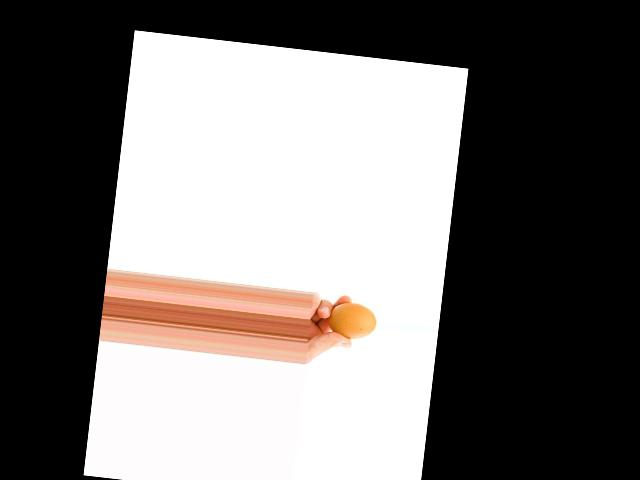egg: (327, 300, 378, 341)
